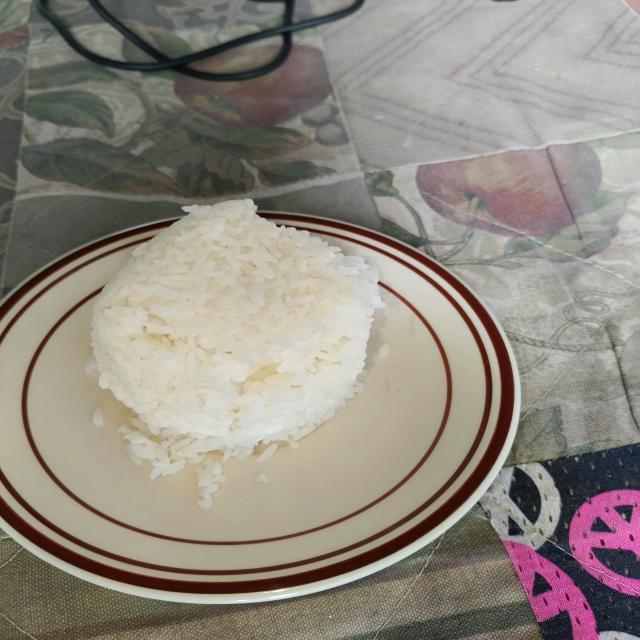Chicken -Chicken Inasal-: (110, 212, 364, 455)
